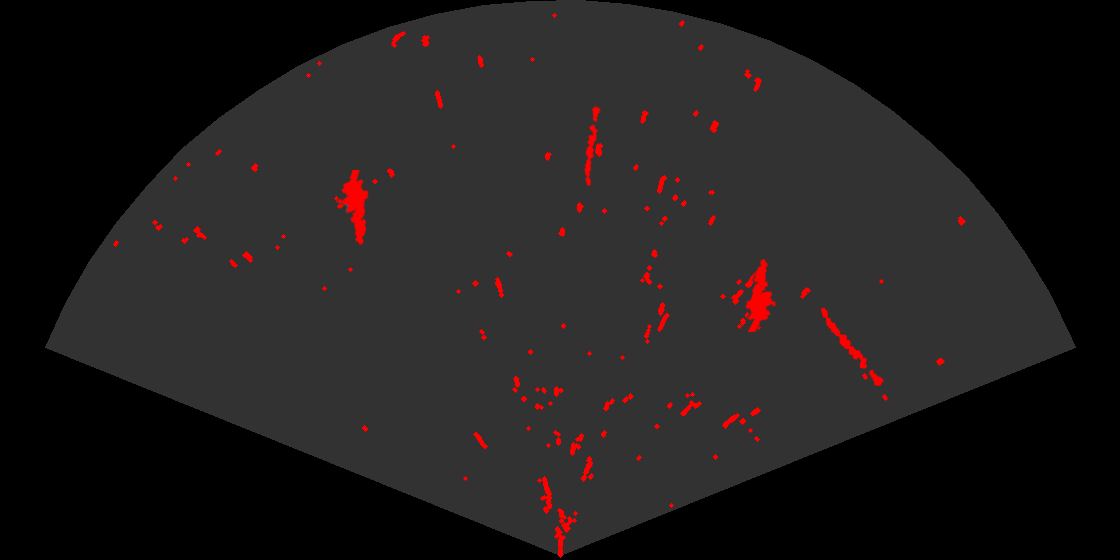chain: (819, 306, 885, 388), (583, 103, 602, 187)
frogman: (336, 170, 370, 247), (744, 257, 778, 332)
